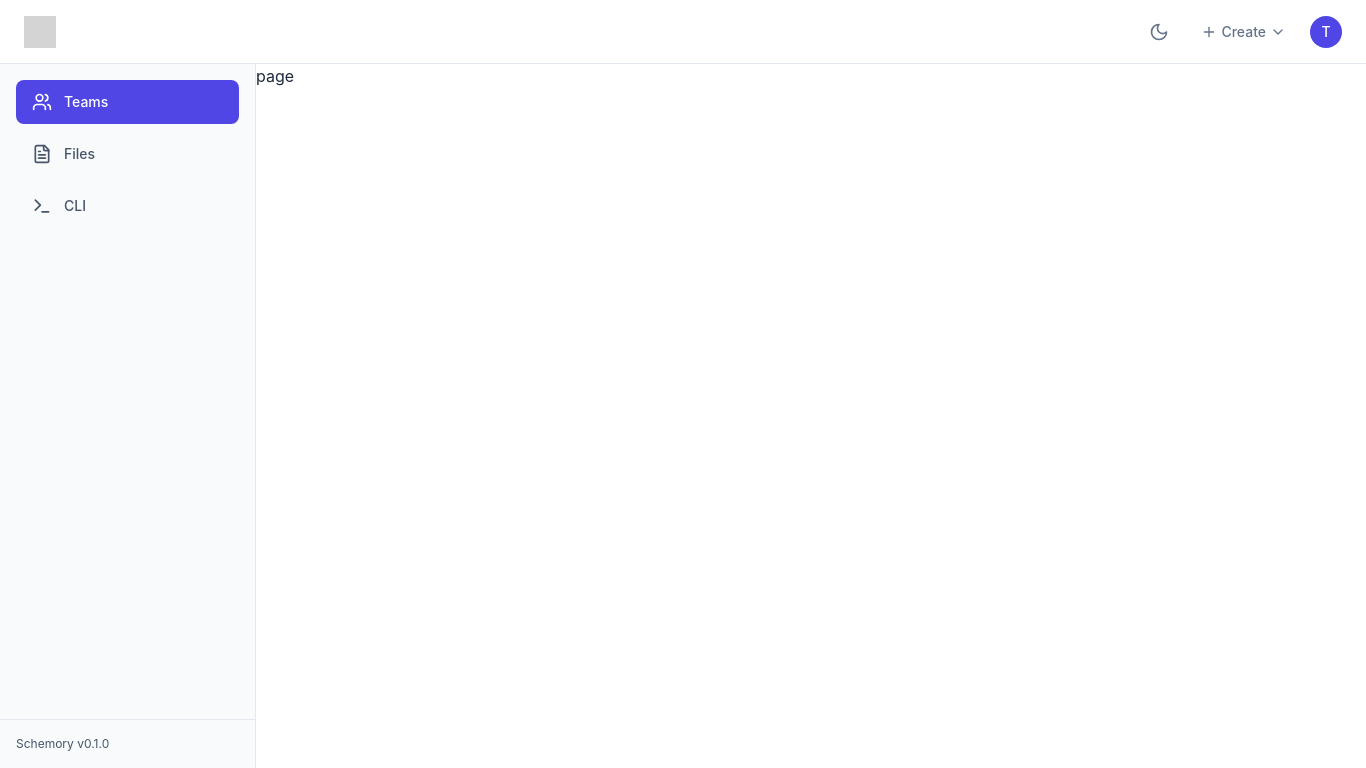
Test: Layout + Create actions wiring › opens Create File modal from header without Layout overriding handlers
Click the button with aria-label "Create new" at [1244, 32], box [1193,14,1294,50]
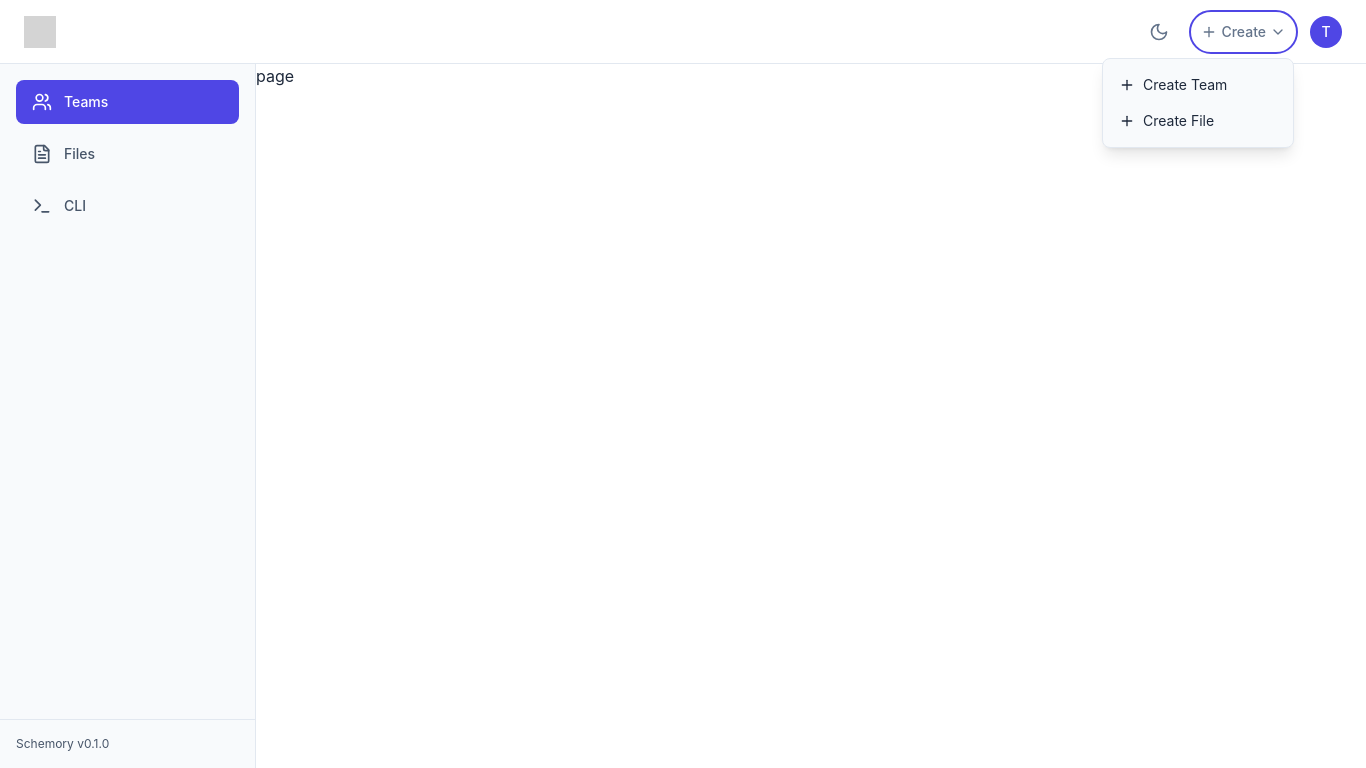
Click the button "Create File" at [1198, 120], box [1103,102,1293,138]
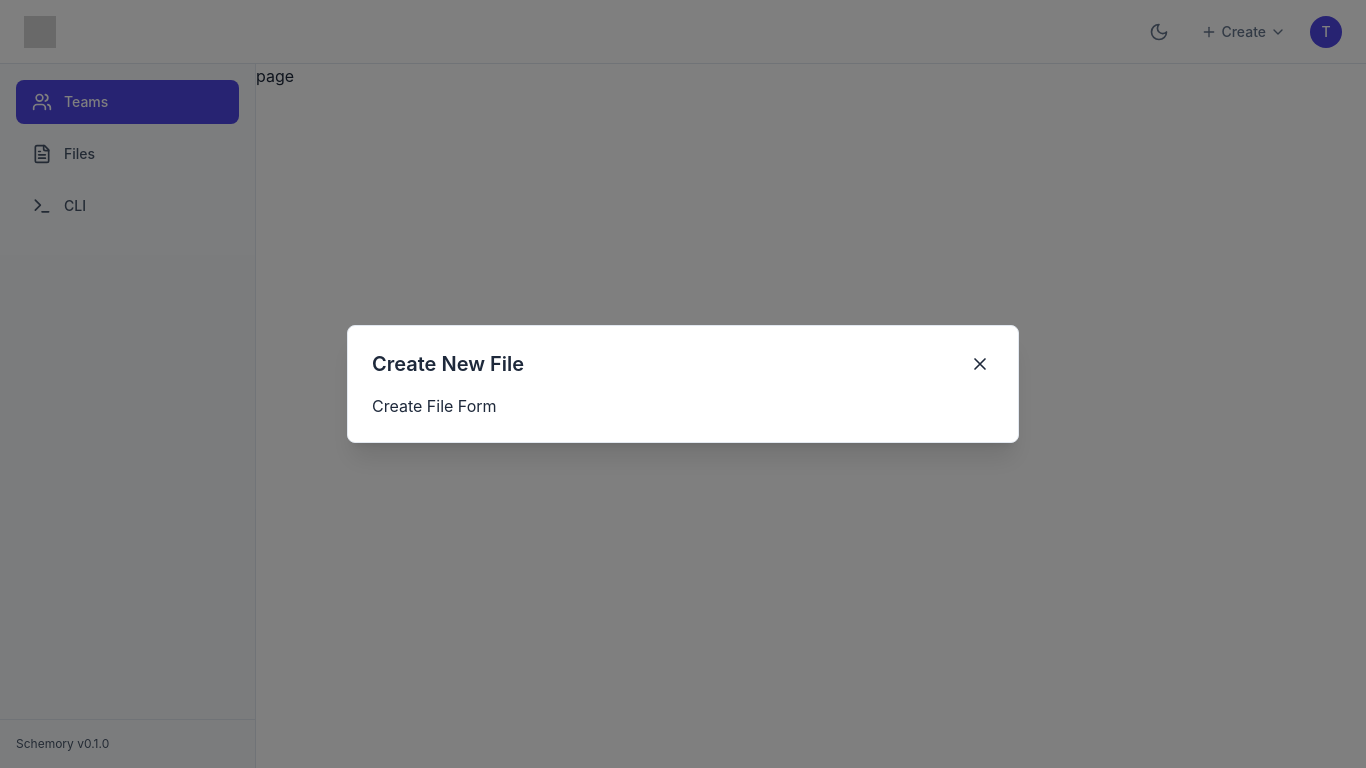
Expected: the text "Create File Form" is shown, [372,396,496,416]
